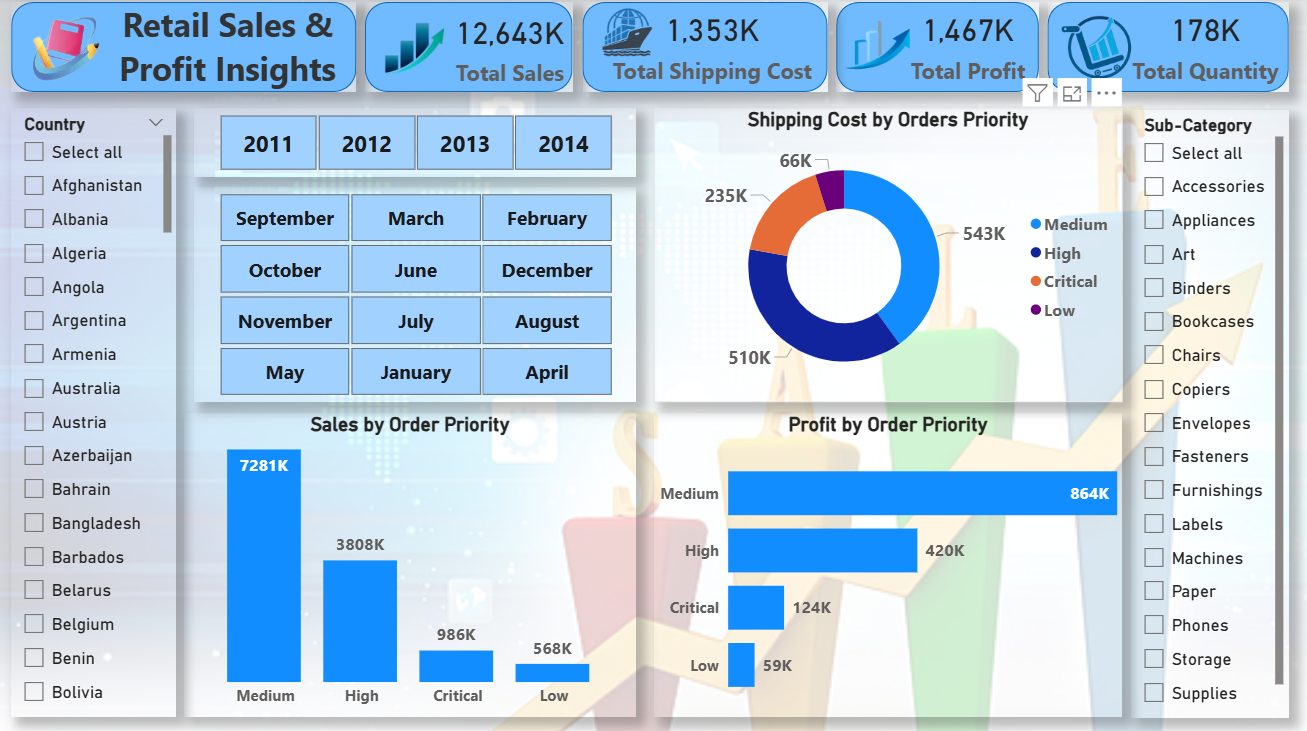

What the dashboard file says about the page in this screenshot:
{"tool":"powerbi","page":{"name":"Order Priority","canvas":[1280,720],"ordinal":0},"visuals":[{"type":"shape","box":[11,4.9,337.5,88],"z":0},{"type":"textbox","box":[91.7,4.9,261.7,92.9],"z":1000},{"type":"image","box":[0,0,129.6,92.9],"z":2000},{"type":"shape","box":[357.1,4.9,203,88],"z":3000},{"type":"shape","box":[818.1,4.9,198.1,88],"z":4000},{"type":"shape","box":[1024.7,4.9,236,88],"z":5000},{"type":"card","fields":{"Values":["superstore_dataset2011-2015.Total Sales"]},"box":[436.6,2.4,124.7,90.5],"z":6000},{"type":"card","fields":{"Values":["superstore_dataset2011-2015.Total Quantity"]},"box":[1098.1,0,162.6,90.5],"z":7000},{"type":"card","fields":{"Values":["superstore_dataset2011-2015.Total Profit"]},"box":[869.4,0,155.3,90.5],"z":8000},{"type":"image","box":[818.1,0,86.8,97.8],"z":9000},{"type":"image","box":[1024.7,0,101.5,97.8],"z":10000},{"type":"image","box":[353.4,0,105.2,97.8],"z":11000},{"type":"slicer","fields":{"Values":["superstore_dataset2011-2015.Country"]},"box":[11,108.8,161.4,595.5],"z":12000},{"type":"slicer","fields":{"Values":["superstore_dataset2011-2015.Sub-Category"]},"box":[1106.7,110.1,154.1,595.5],"z":13000},{"type":"donutChart","title":"Shipping Cost by Orders Priority","fields":{"Category":["superstore_dataset2011-2015.Order Priority"],"Y":["superstore_dataset2011-2015.Total Shipping Cost"]},"box":[639.5,108.8,458.6,287.4],"z":14000},{"type":"clusteredColumnChart","title":"Sales by Order Priority","fields":{"Y":["Sum(superstore_dataset2011-2015.Sales)"],"Category":["superstore_dataset2011-2015.Order Priority"]},"box":[179.8,407.2,442.7,297.1],"z":15000},{"type":"clusteredBarChart","title":"Profit by Order Priority","fields":{"Y":["Sum(superstore_dataset2011-2015.Profit)"],"Category":["superstore_dataset2011-2015.Order Priority"]},"box":[639.5,407.2,458.6,297.1],"z":16000},{"type":"slicer","fields":{"Values":["superstore_dataset2011-2015.Year"]},"box":[189.5,108.8,432.9,67.3],"z":16001},{"type":"shape","box":[569.8,4.9,239.7,88],"z":16002},{"type":"card","fields":{"Values":["superstore_dataset2011-2015.Total Shipping Cost"]},"box":[584.5,0,225,90.5],"z":16003},{"type":"image","box":[578.4,0,72.1,72.1],"z":16004},{"type":"slicer","fields":{"Values":["superstore_dataset2011-2015.Month Name"]},"box":[189.5,185.9,432.9,210.3],"z":16006}]}

Visuals, with their boxes in screenshot pixels (x1, y1, x2, y2), scaled from the page's 1280x720 canvas onto the 1307x731 screenshot:
shape: select_region(11, 5, 356, 94)
textbox: select_region(94, 5, 361, 99)
image: select_region(0, 0, 132, 94)
shape: select_region(365, 5, 572, 94)
shape: select_region(835, 5, 1038, 94)
shape: select_region(1046, 5, 1287, 94)
card - superstore_dataset2011-2015.Total Sales: select_region(446, 2, 573, 94)
card - superstore_dataset2011-2015.Total Quantity: select_region(1121, 0, 1287, 92)
card - superstore_dataset2011-2015.Total Profit: select_region(888, 0, 1046, 92)
image: select_region(835, 0, 924, 99)
image: select_region(1046, 0, 1150, 99)
image: select_region(361, 0, 468, 99)
slicer - superstore_dataset2011-2015.Country: select_region(11, 110, 176, 715)
slicer - superstore_dataset2011-2015.Sub-Category: select_region(1130, 112, 1287, 716)
"Shipping Cost by Orders Priority" donutChart: select_region(653, 110, 1121, 402)
"Sales by Order Priority" clusteredColumnChart: select_region(184, 413, 636, 715)
"Profit by Order Priority" clusteredBarChart: select_region(653, 413, 1121, 715)
slicer - superstore_dataset2011-2015.Year: select_region(193, 110, 636, 179)
shape: select_region(582, 5, 827, 94)
card - superstore_dataset2011-2015.Total Shipping Cost: select_region(597, 0, 827, 92)
image: select_region(591, 0, 664, 73)
slicer - superstore_dataset2011-2015.Month Name: select_region(193, 189, 636, 402)
